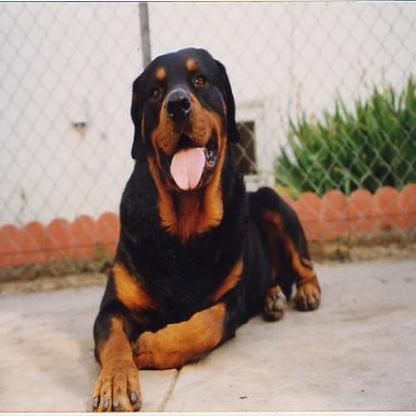Rottweiler: (91, 43, 321, 414)
